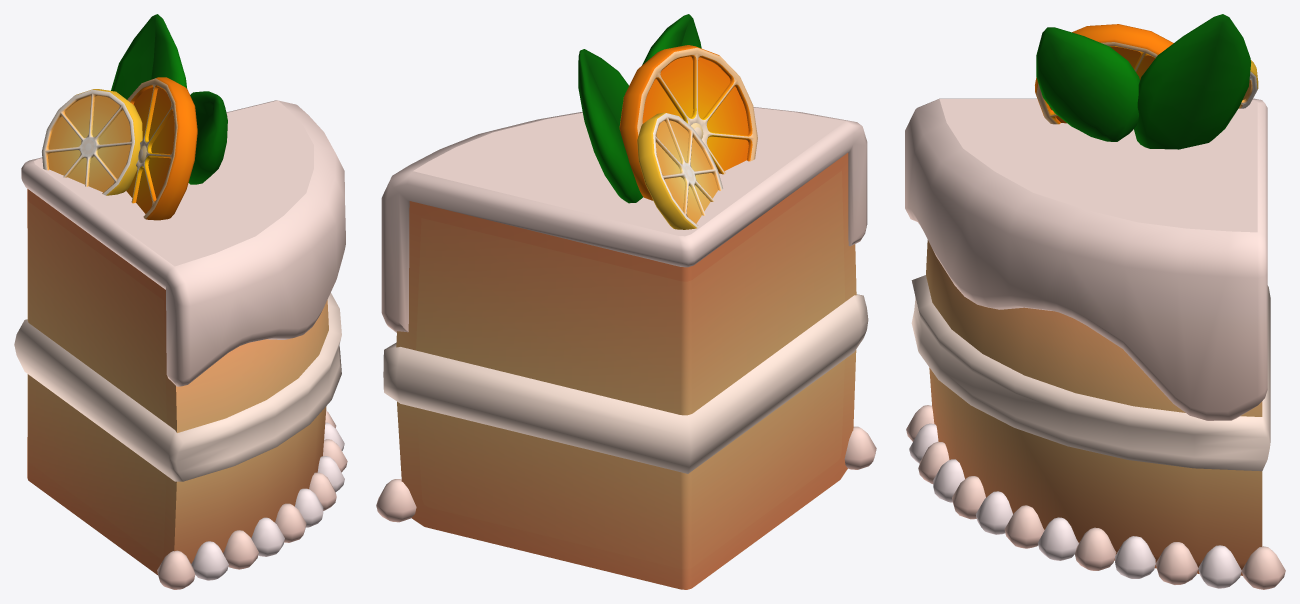
File: Cake_Lemon_Slice_V3_00.fbx
The picture shows the model from 3 angles, left to right: view 1: azimuth 30°, elevation 25°; view 2: azimuth 150°, elevation 25°; view 3: azimuth 270°, elevation 25°; orthographic projection. The views are drawn at different scales.
Parts seen in each view (by area): view 1: Cake_Lemon_Slice_V3_00; view 2: Cake_Lemon_Slice_V3_00; view 3: Cake_Lemon_Slice_V3_00.
Boxes of the visible parts, left/top/right/bottom form: Cake_Lemon_Slice_V3_00: left=14, top=14, right=347, bottom=589; Cake_Lemon_Slice_V3_00: left=376, top=14, right=876, bottom=589; Cake_Lemon_Slice_V3_00: left=905, top=14, right=1285, bottom=589.
Size of the model in its own units: 34.82 by 50.25 by 35.03.
